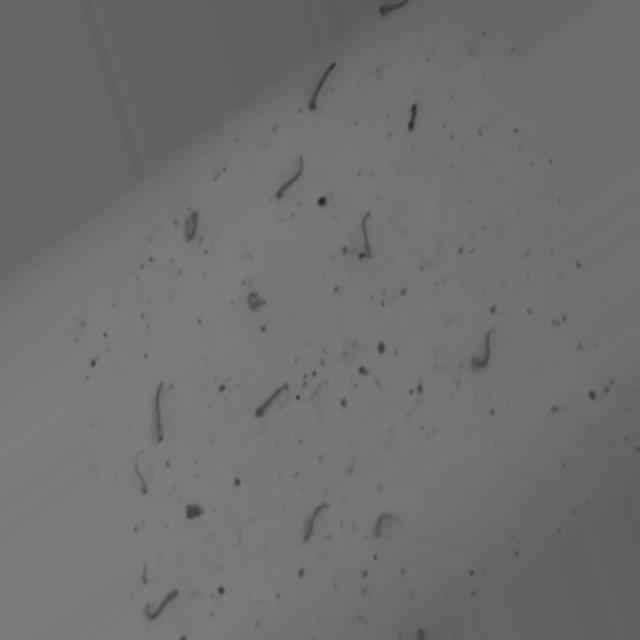larvas: (309, 64, 340, 110), (302, 498, 330, 542), (253, 386, 289, 419), (145, 586, 178, 619), (470, 326, 494, 368), (275, 159, 301, 197), (152, 376, 166, 446), (372, 506, 398, 538), (131, 456, 149, 495), (378, 0, 408, 21), (184, 206, 198, 243), (248, 289, 266, 311), (362, 211, 369, 254), (409, 100, 418, 133)
